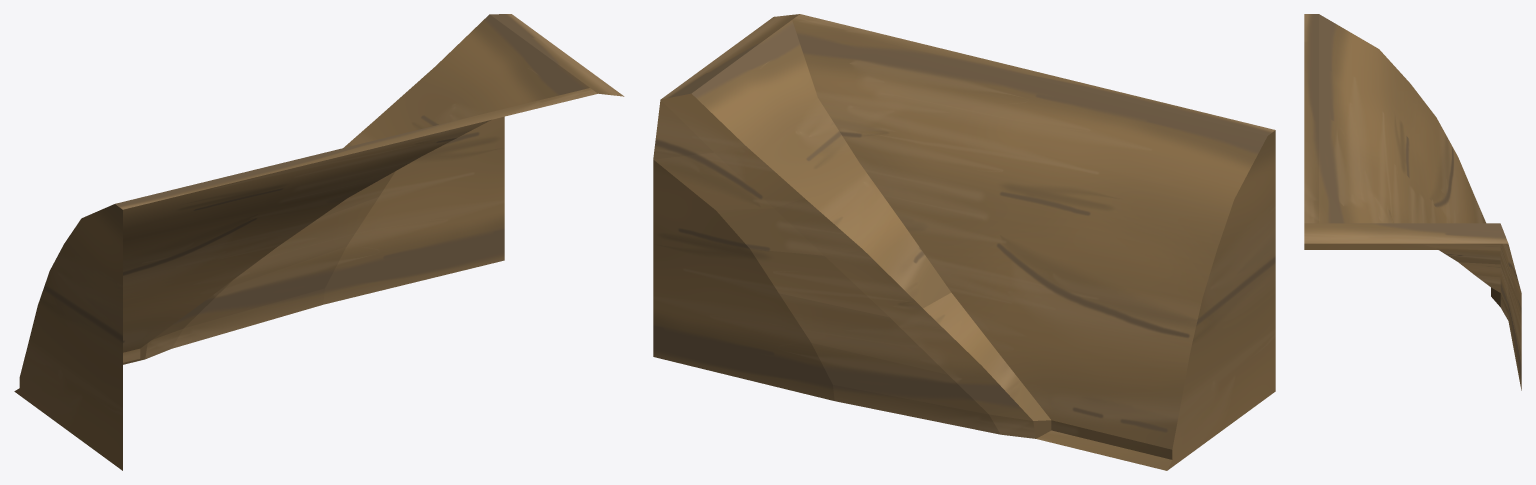
Rendered from RoofArch2.fbx.
3 renders of one model, left to right at view 1: azimuth 30°, elevation 25°; view 2: azimuth 150°, elevation 25°; view 3: azimuth 270°, elevation 25°, orthographic. The views are drawn at different scales.
Parts seen in each view (by area): view 1: cieling_1; view 2: cieling_1; view 3: cieling_1.
Part boxes in pixels (box(x1,y1,x2,y2)): cieling_1: box(14, 14, 624, 470); cieling_1: box(653, 14, 1275, 470); cieling_1: box(1304, 14, 1521, 390).
Size of the model in its own units: 400 by 199 by 166.
